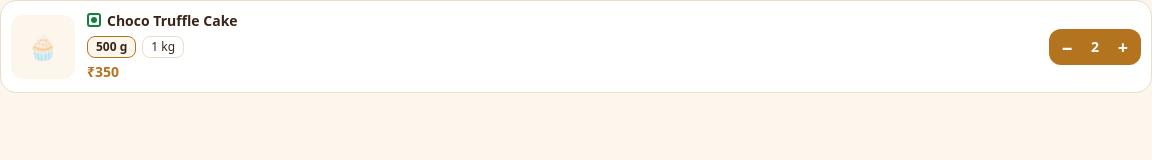
it: OrderItemRow › swaps Add for a counter once it is in the order, per size
The width and height of the screenshot is (1152, 160).
Click the button named "Add one more Choco Truffle Cake (500 g)": (1123, 47) [1105,29,1141,65]
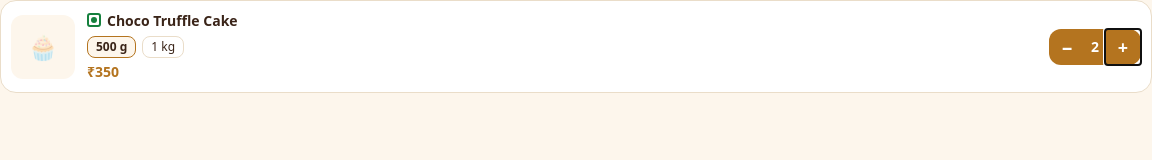
Click the button named "Remove one Choco Truffle Cake (500 g)": (1067, 47) [1049,29,1085,65]
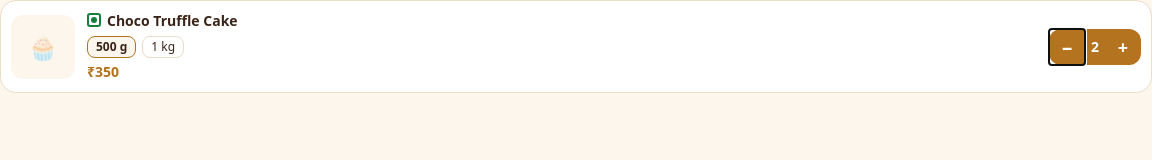
The other size is not in the order yet.
Click the button "1 kg": (163, 47) [142,36,184,58]
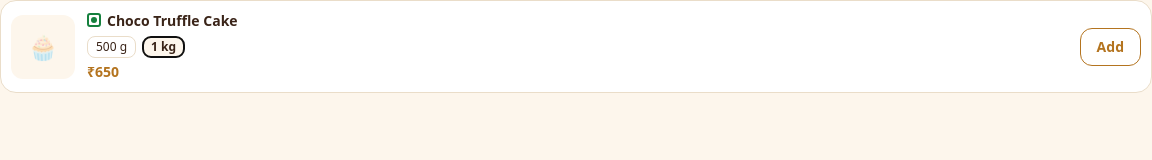
Check: the button with aria-label "Add Choco Truffle Cake (1 kg)" is shown, box [1080,28,1141,66]
